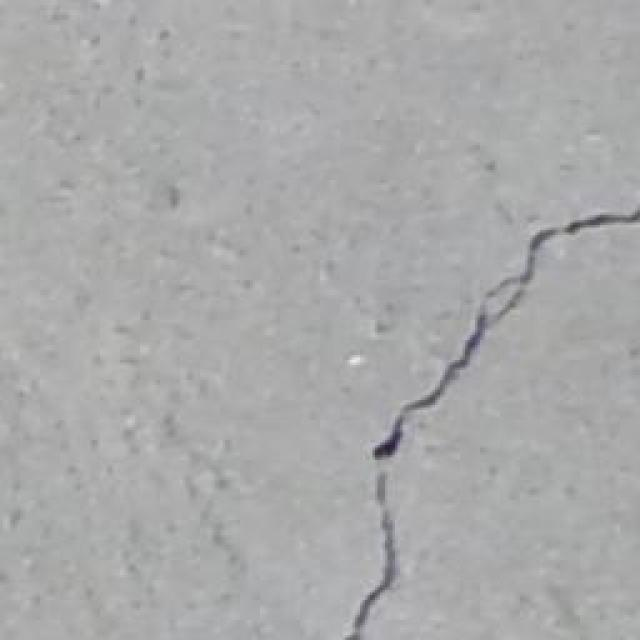concrete-crack: (341, 205, 640, 640)
